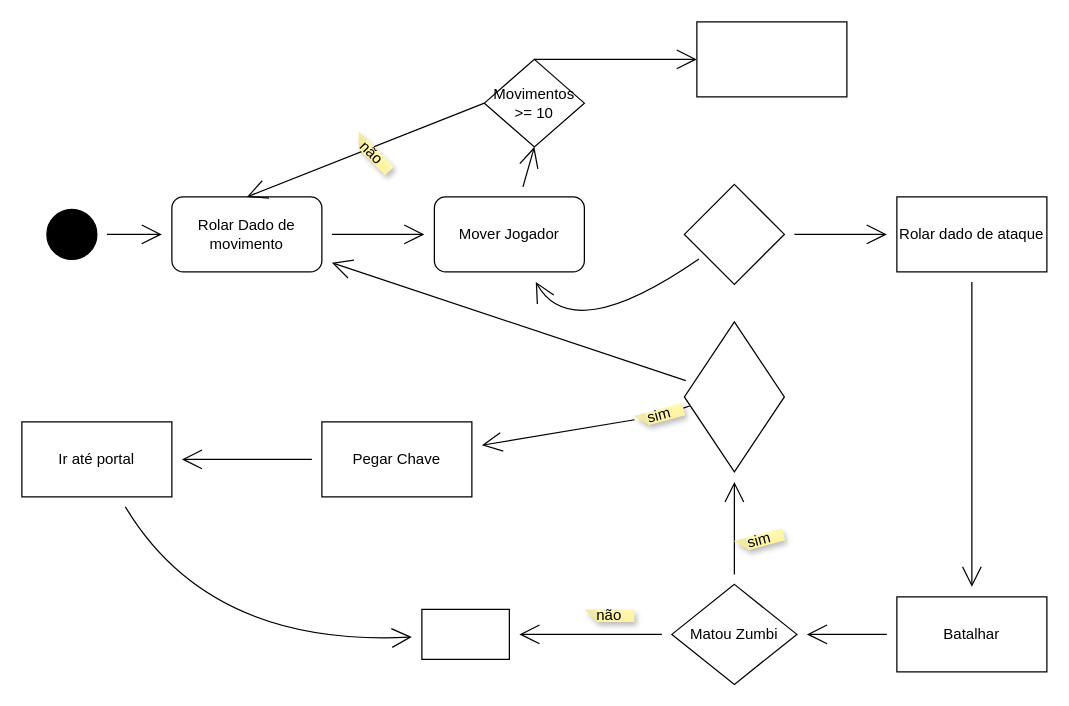
Image size: 1069x706. Some labels were removed from this diagram. The centre of each missing label's shape, as x and y in pixels:
"Encontrou inimigo" belongs at (x=733, y=233).
"Fim" belongs at (x=465, y=633).
"Quantidade de zumbis mortos: 2" belongs at (x=733, y=396).
"Zumbi entra em ação" belongs at (x=771, y=59).
